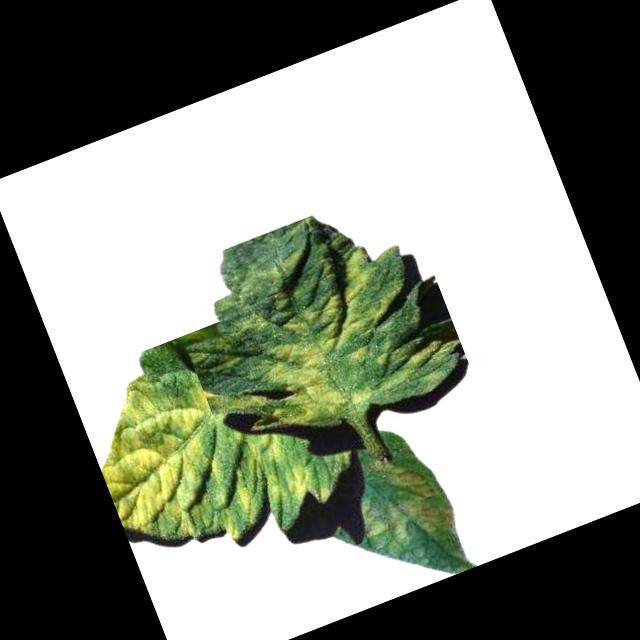Leaf_Mold: (75, 330, 323, 574), (222, 207, 467, 440), (343, 440, 460, 561)
